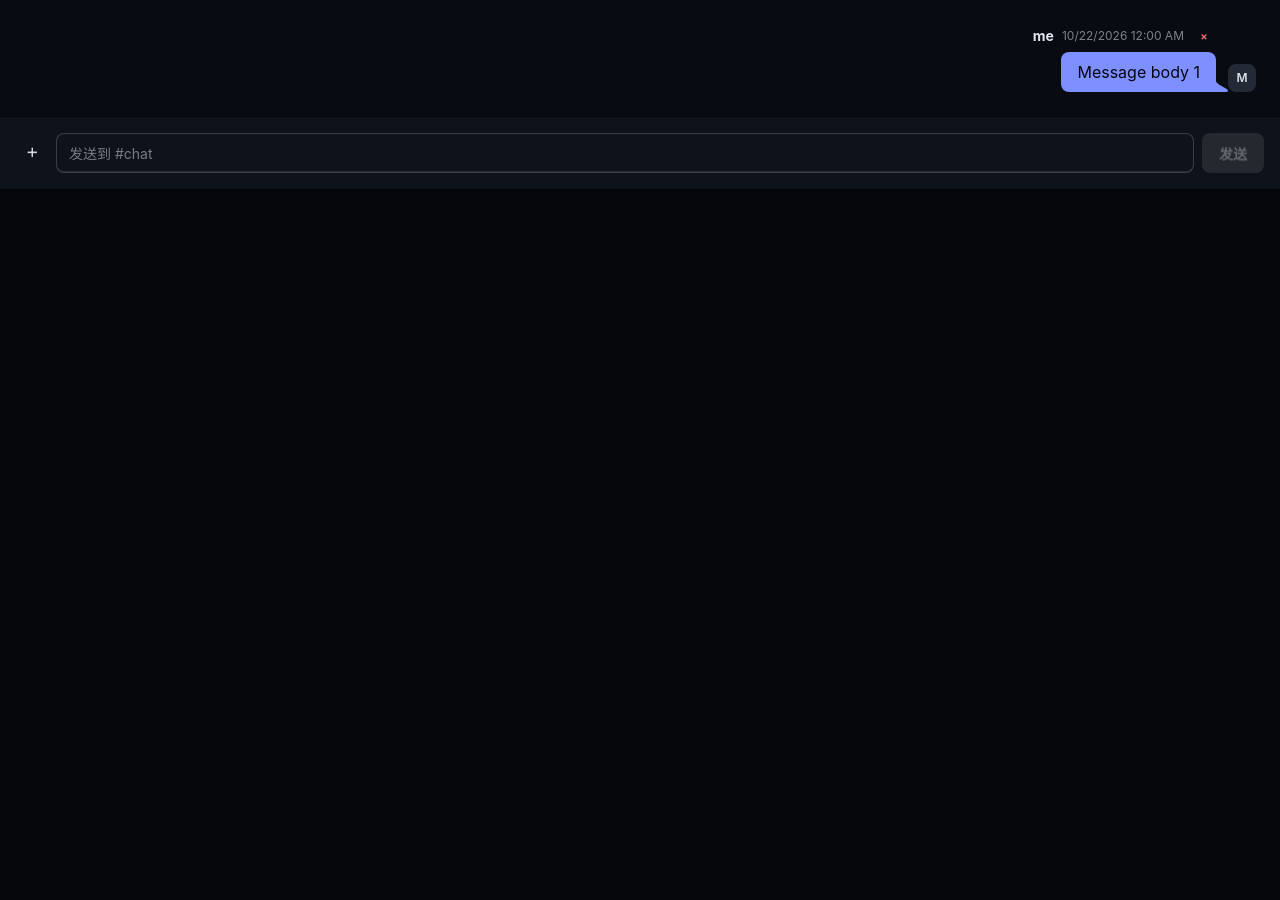
ChatPane deletion with pending history reads › does not resurrect a confirmed deletion when a pre-deletion poll arrives late
Click the button "×".
click(1204, 36)  # box x1=1192 y1=24 x2=1216 y2=48
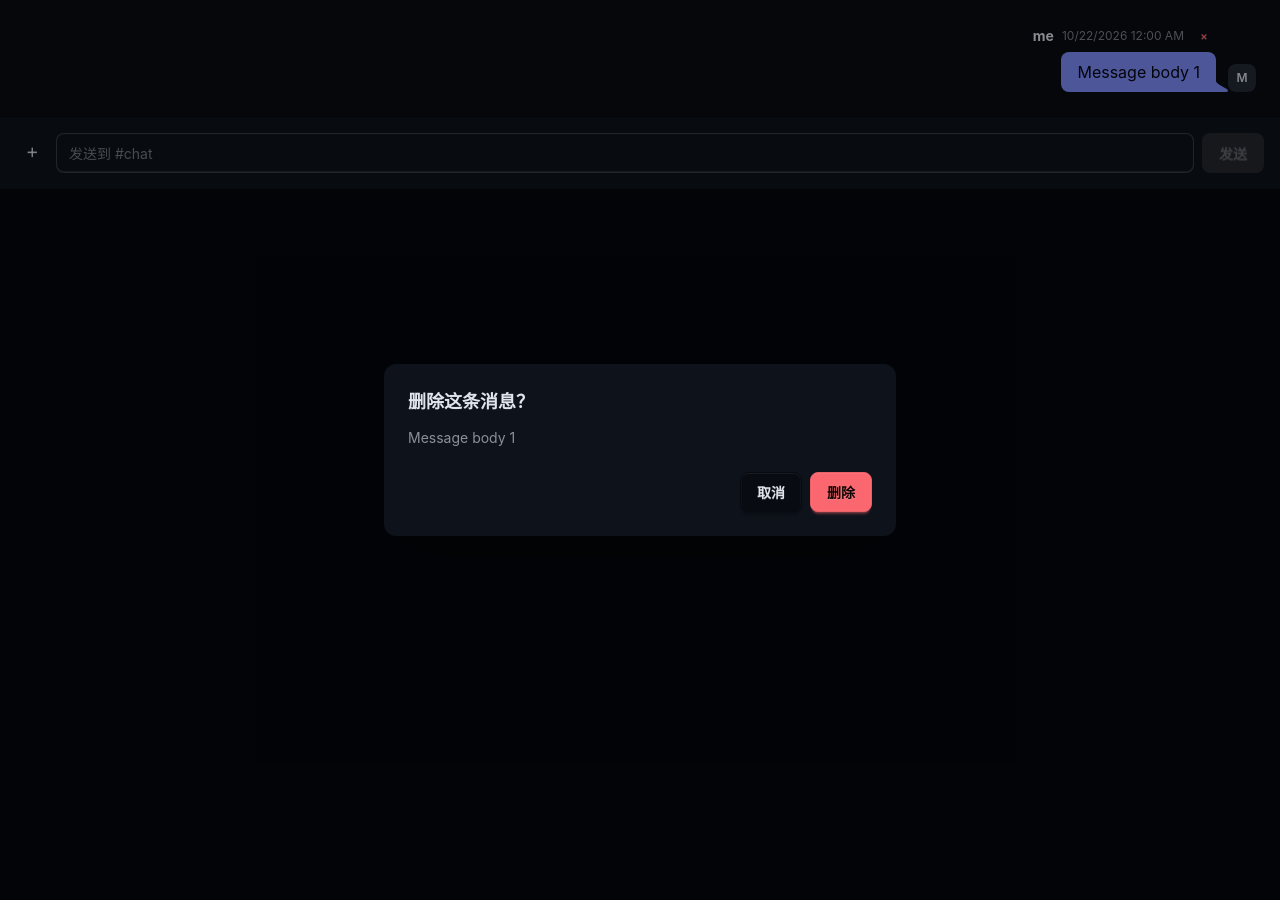
Now the button "删除" is shown
Click the button "删除".
click(841, 492)  # box x1=810 y1=472 x2=872 y2=512
Wait 3000 ms
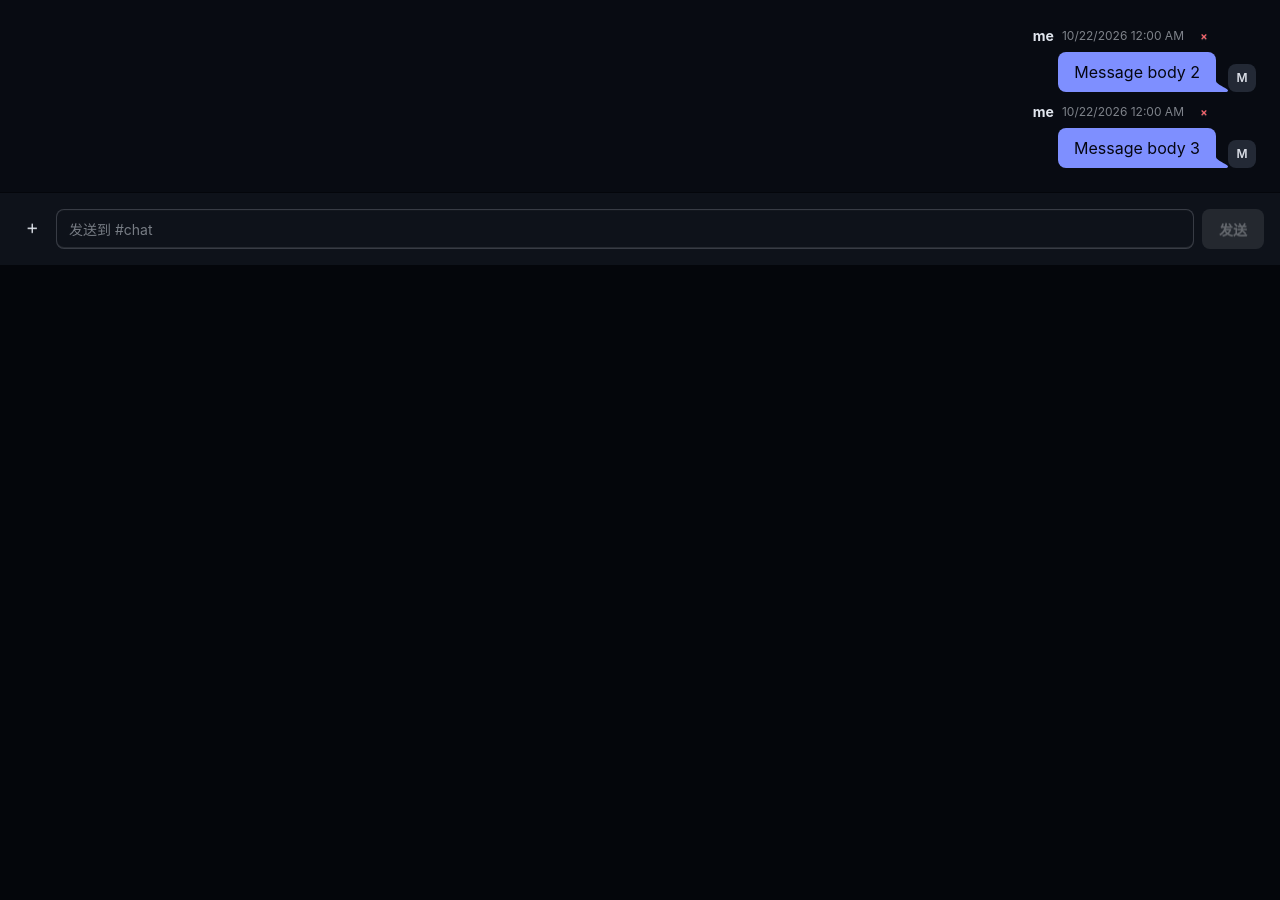
Now the element showing "M me 10/22/2026 12:00 AM × Message body 2" is shown, box x1=1033 y1=24 x2=1256 y2=92
Now the element showing "M me 10/22/2026 12:00 AM × Message body 3" is shown, box x1=1033 y1=100 x2=1256 y2=168
